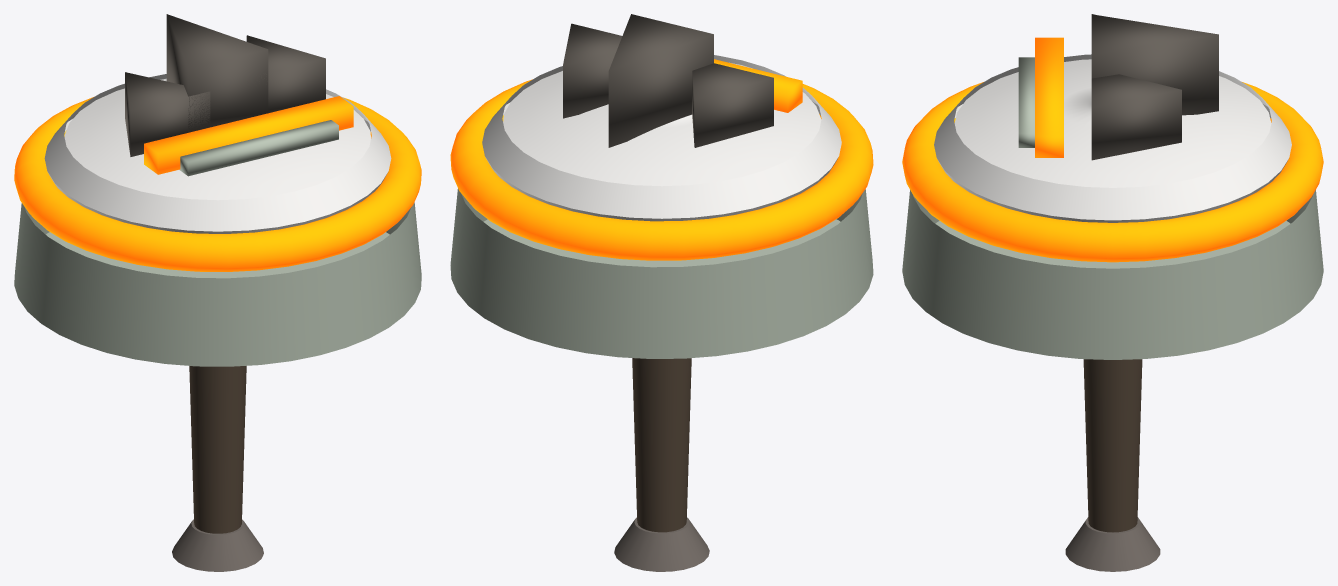
File: poi.glb
3 views of the same model, side by side, from view 1: azimuth 30°, elevation 25°; view 2: azimuth 150°, elevation 25°; view 3: azimuth 270°, elevation 25° (orthographic). The views are drawn at different scales.
Parts seen in each view (by area): view 1: place_head, place_ring, place_plate_bevel, place_plate_dome, place_stem, place_pk_m, place_wave_o, place_pk_l, place_pk_r, place_wave_s, place_foot, place_collar (+1 smaller); view 2: place_head, place_ring, place_plate_dome, place_plate_bevel, place_pk_m, place_stem, place_pk_l, place_pk_r, place_foot, place_collar, place_wave_o, place_plate_wall; view 3: place_head, place_ring, place_plate_dome, place_plate_bevel, place_stem, place_pk_m, place_pk_r, place_wave_o, place_foot, place_wave_s, place_collar, place_plate_wall.
Part boxes in pixels (x1,y1,x2,y2): place_head: [14, 202, 421, 366]; place_ring: [14, 97, 421, 271]; place_plate_bevel: [44, 74, 391, 231]; place_plate_dome: [64, 78, 370, 200]; place_stem: [189, 366, 246, 533]; place_pk_m: [166, 14, 268, 132]; place_wave_o: [144, 96, 353, 174]; place_pk_l: [125, 72, 210, 156]; place_pk_r: [246, 35, 325, 113]; place_wave_s: [179, 120, 338, 176]; place_foot: [172, 519, 263, 571]; place_collar: [133, 264, 302, 278]; place_head: [450, 188, 873, 358]; place_ring: [450, 79, 873, 260]; place_plate_dome: [503, 62, 821, 186]; place_plate_bevel: [482, 55, 841, 218]; place_pk_m: [608, 14, 713, 147]; place_stem: [632, 358, 691, 532]; place_pk_l: [692, 63, 773, 147]; place_pk_r: [563, 23, 622, 118]; place_foot: [614, 517, 709, 571]; place_collar: [573, 252, 750, 267]; place_wave_o: [714, 59, 802, 112]; place_plate_wall: [485, 101, 838, 221]; place_head: [902, 190, 1323, 359]; place_ring: [902, 82, 1323, 262]; place_plate_dome: [954, 59, 1271, 187]; place_plate_bevel: [934, 54, 1291, 220]; place_stem: [1083, 359, 1142, 532]; place_pk_m: [1091, 14, 1218, 115]; place_pk_r: [1091, 74, 1181, 160]; place_wave_o: [1035, 37, 1063, 157]; place_foot: [1065, 517, 1160, 571]; place_wave_s: [1018, 57, 1034, 147]; place_collar: [1024, 254, 1201, 268]; place_plate_wall: [938, 104, 1287, 222].
Bounding box in the file's own units: 0.796 × 1.08 × 0.796.
